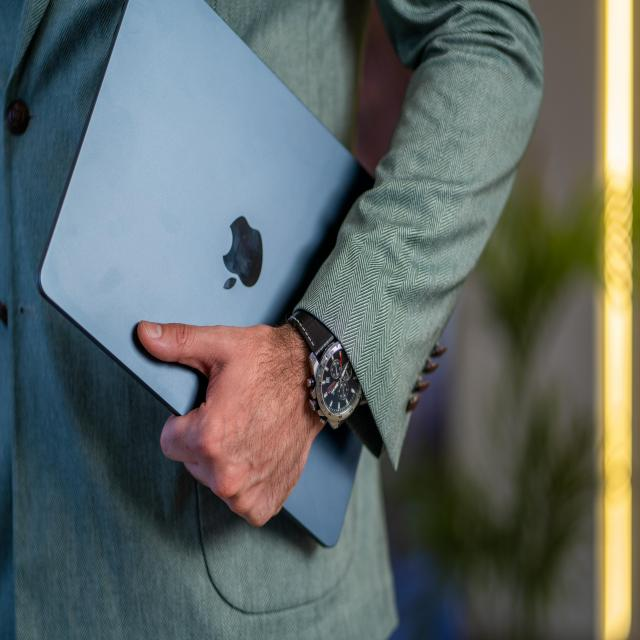relogio: (284, 306, 368, 433)
